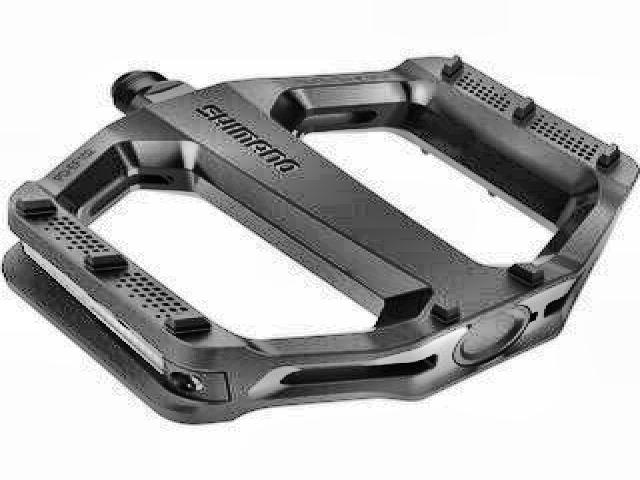pedal: (6, 54, 640, 434)
